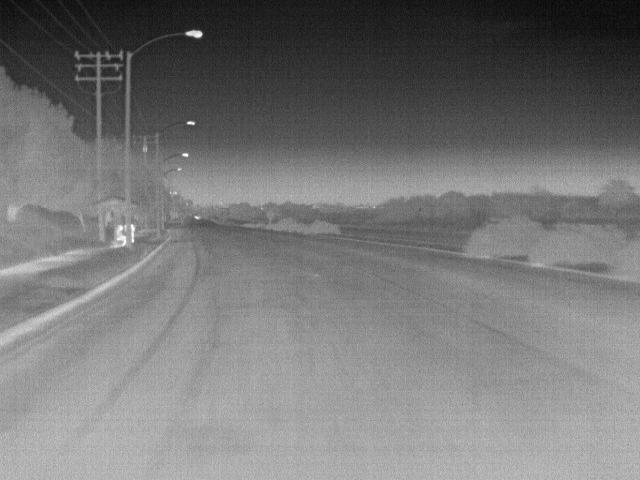person: (115, 225, 129, 245)
